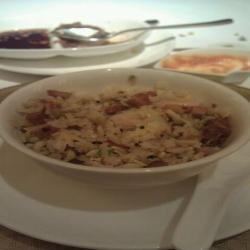carbonara: (18, 74, 237, 188)
